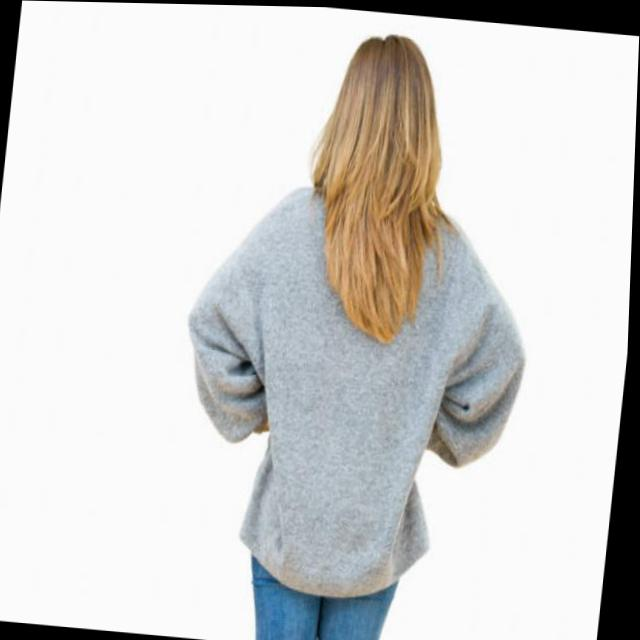no helmet: (303, 5, 458, 203)
